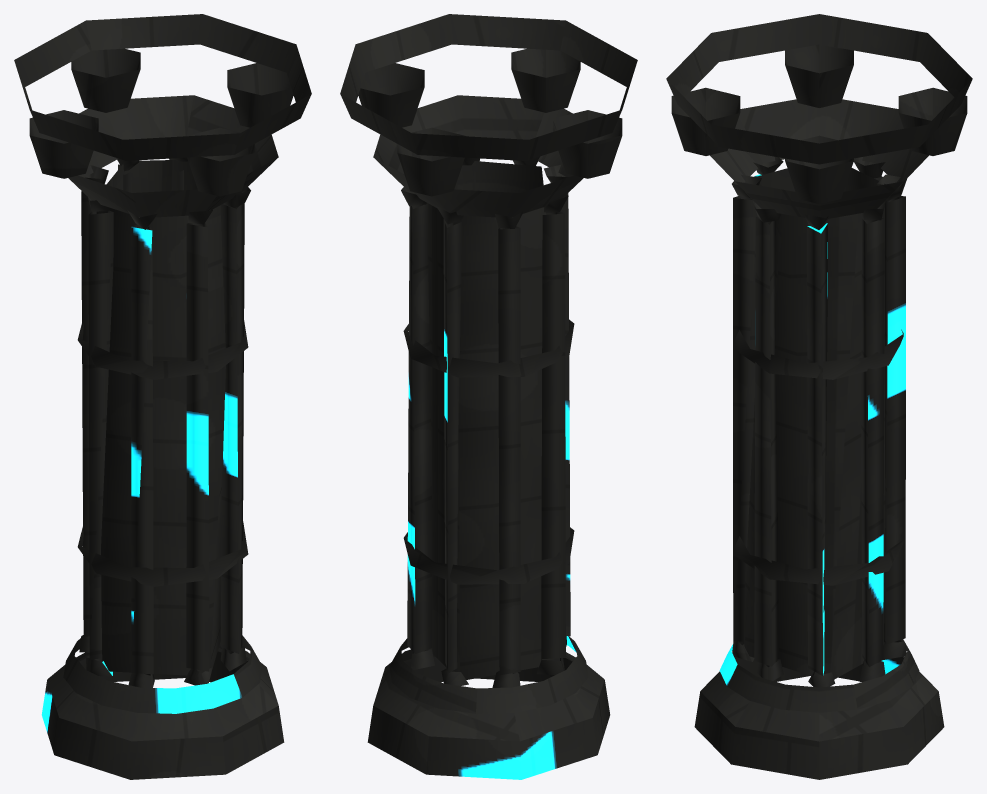
File: aion2_gothic_dungeon_pillar_LOD1.glb
The picture shows the model from 3 angles, left to right: view 1: azimuth 30°, elevation 25°; view 2: azimuth 150°, elevation 25°; view 3: azimuth 270°, elevation 25°; orthographic projection.
Visible parts, largest first — view 1: aion2_gothic_dungeon_pillar_LOD1; view 2: aion2_gothic_dungeon_pillar_LOD1; view 3: aion2_gothic_dungeon_pillar_LOD1.
Boxes of the visible parts, <box> form: aion2_gothic_dungeon_pillar_LOD1: <box>14,14,311,779</box>; aion2_gothic_dungeon_pillar_LOD1: <box>340,14,637,779</box>; aion2_gothic_dungeon_pillar_LOD1: <box>666,14,972,779</box>.
Size of the model in its own units: 2.7 by 6.3 by 2.7.
Materials: 1 (1 with a texture image).
